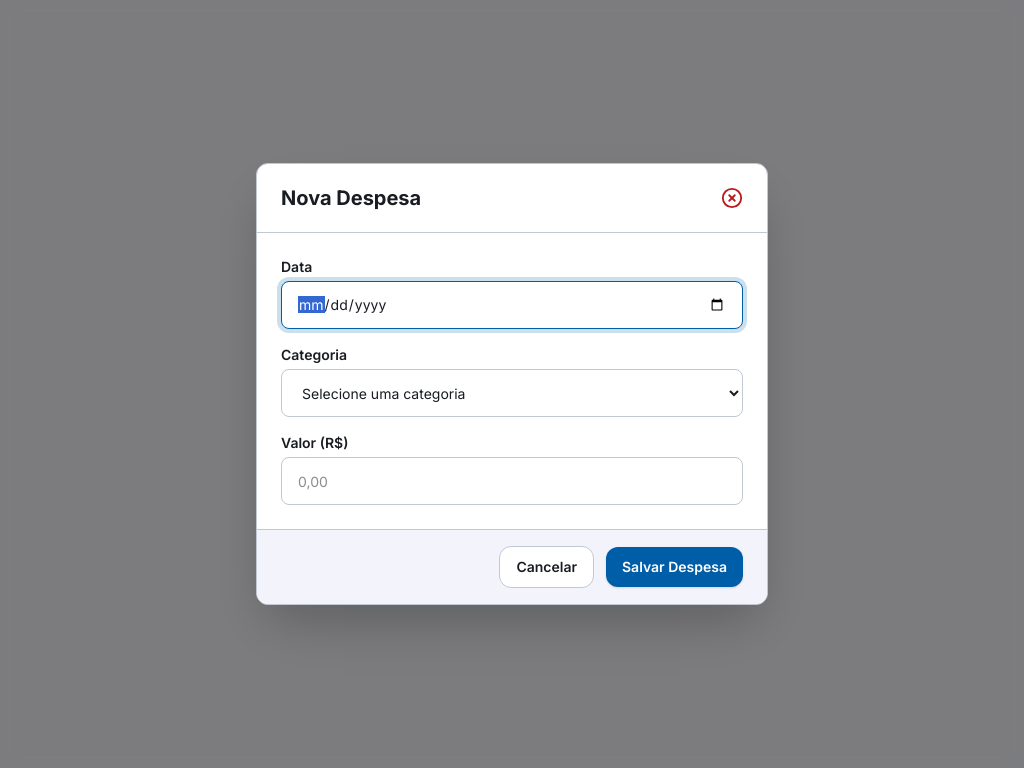
it: AddExpenseModal › submits valid expense, shows success toast and closes modal
This screenshot has width=1024, height=768.
Type "2024-01-15" into the date field labelled "Data" at (512, 305), box [281,281,743,329]
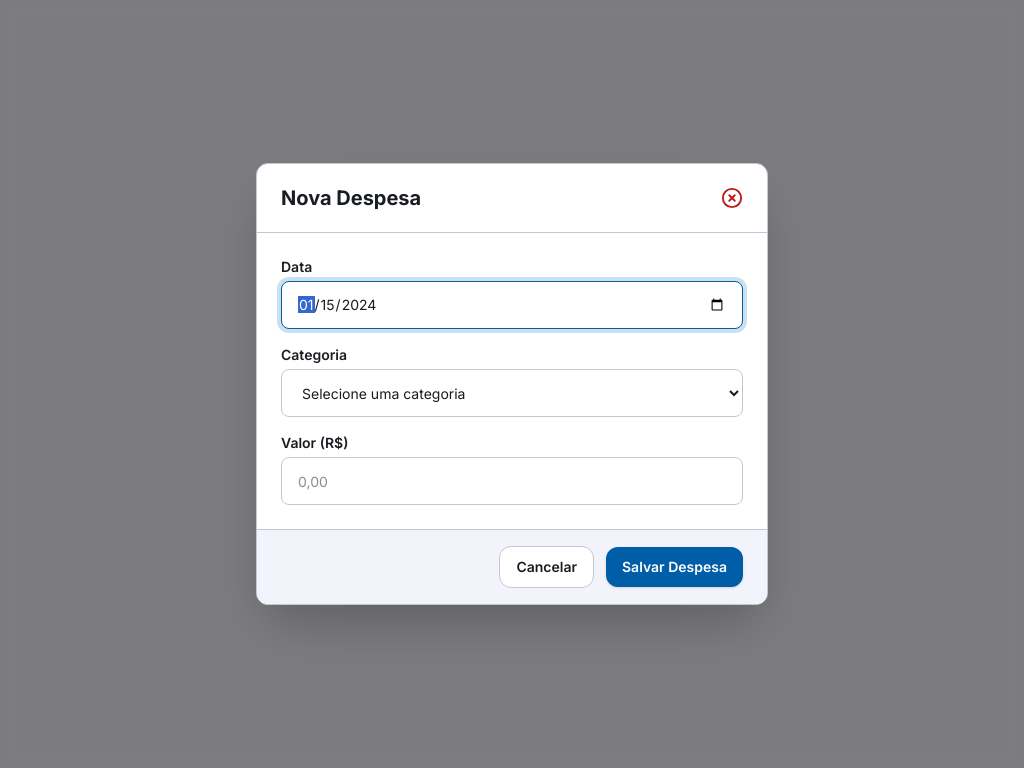
Select "Alimentação" in the dropdown labelled "Categoria" at (512, 393), box [281,369,743,417]
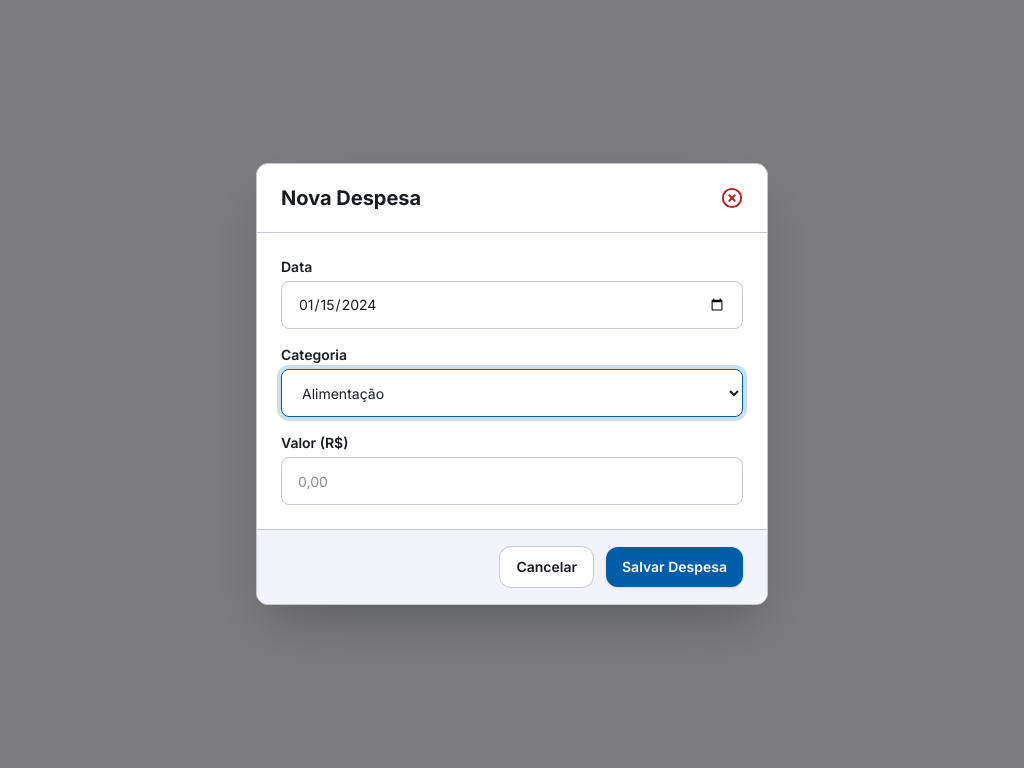
Type "100" into the number field labelled "Valor (R$)" at (512, 481), box [281,457,743,505]
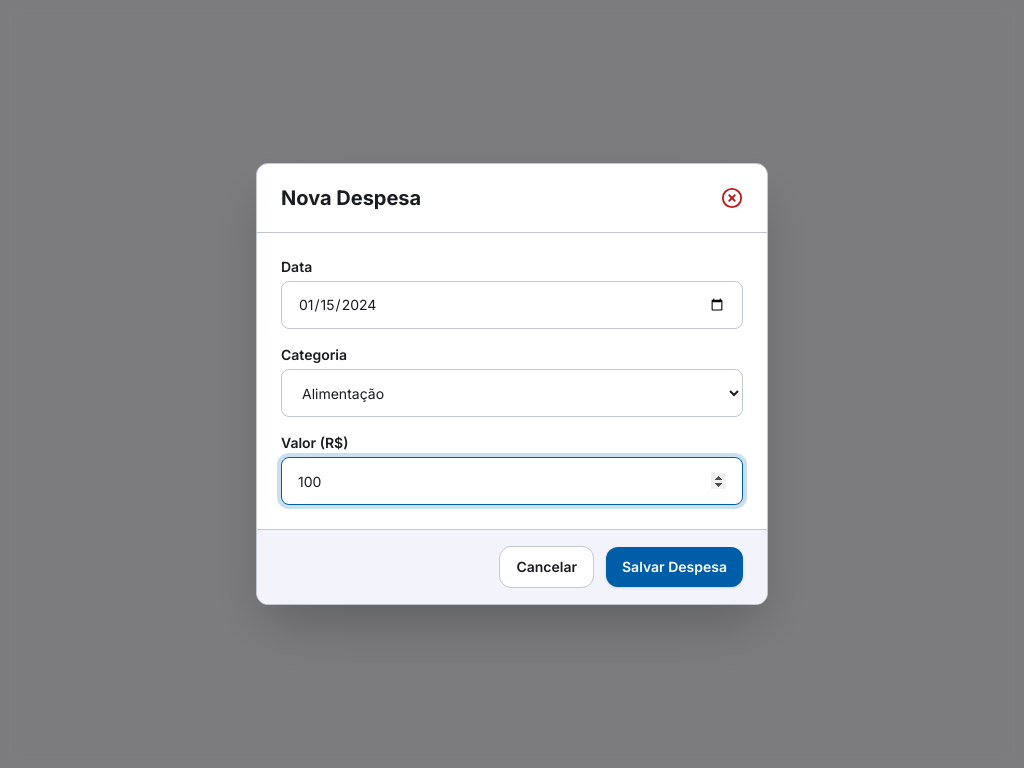
Click the button "Salvar Despesa" at (674, 567), box [606,547,743,587]
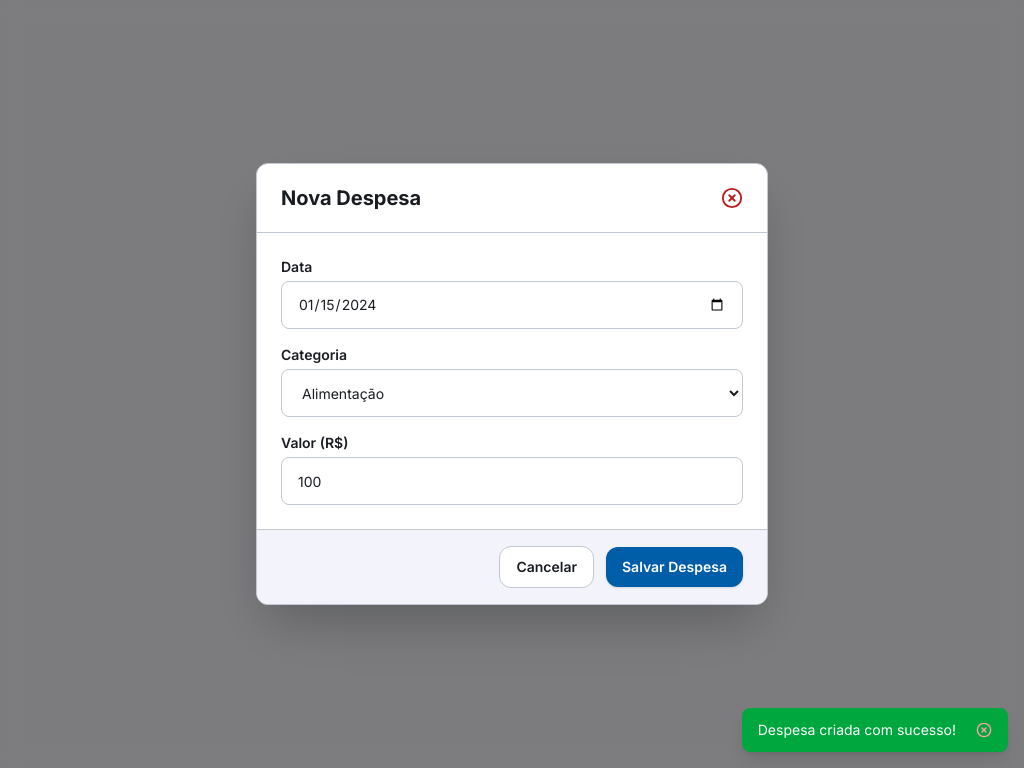
Expected: the message reads "Despesa criada com sucesso!", [758,721,956,738]
